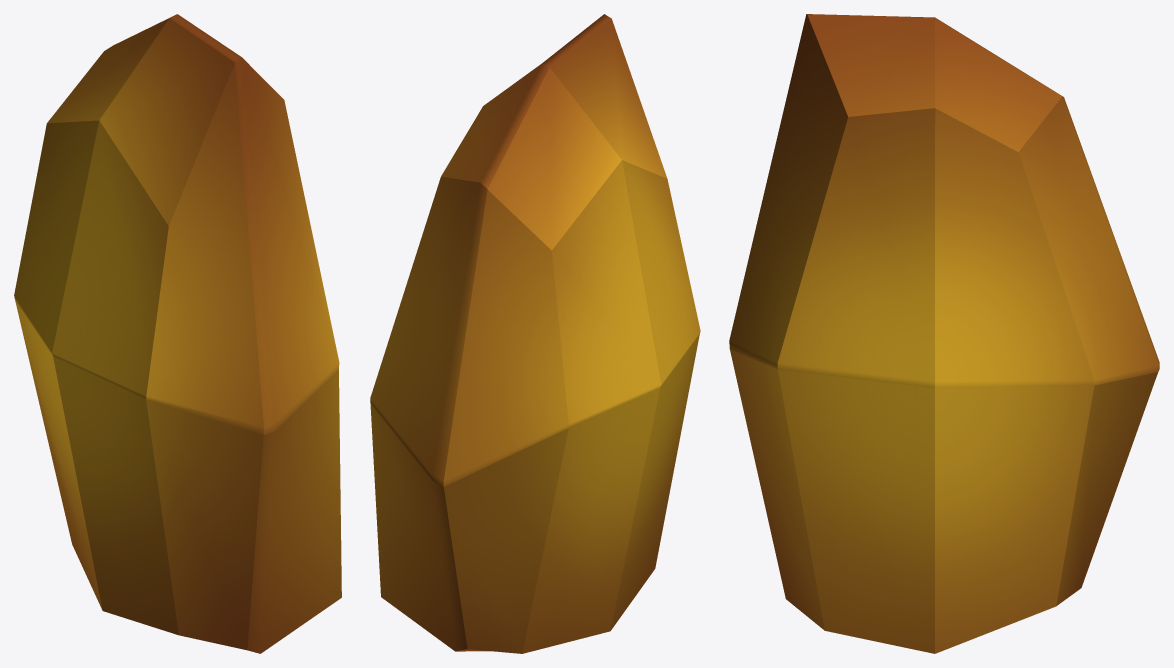
Rendered from Giga_rocher.fbx.
3 views of the same model, side by side, from view 1: azimuth 30°, elevation 25°; view 2: azimuth 150°, elevation 25°; view 3: azimuth 270°, elevation 25° (orthographic). The views are drawn at different scales.
Visible parts, largest first — view 1: pCube14; view 2: pCube14; view 3: pCube14.
Part boxes in pixels (x1=…): pCube14: x1=14, y1=14, x2=341, y2=653; pCube14: x1=370, y1=14, x2=700, y2=653; pCube14: x1=729, y1=14, x2=1159, y2=653.
Size of the model in its own units: 13.09 by 30.01 by 18.83.
